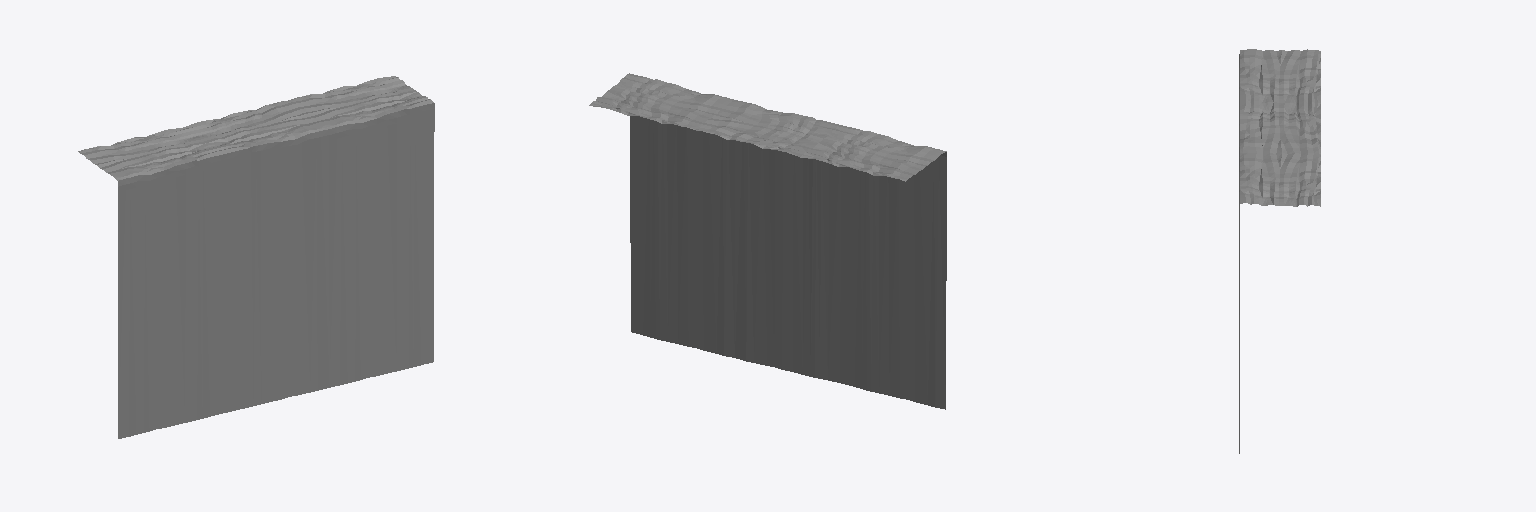
The model's file is cpz100_obj_upwater.obj.
3 views of the same model, side by side, from view 1: azimuth 30°, elevation 25°; view 2: azimuth 150°, elevation 25°; view 3: azimuth 270°, elevation 25° (orthographic).
Visible parts, largest first — view 1: cpz_water_yy1_purple_dist; view 2: cpz_water_yy1_purple_dist; view 3: cpz_water_yy1_purple_dist.
Boxes of the visible parts, box(x1,y1,x2,y2) form: cpz_water_yy1_purple_dist: box(78, 76, 434, 438); cpz_water_yy1_purple_dist: box(589, 73, 946, 409); cpz_water_yy1_purple_dist: box(1239, 49, 1320, 453).
Size of the model in its own units: 1929 by 1516 by 430.